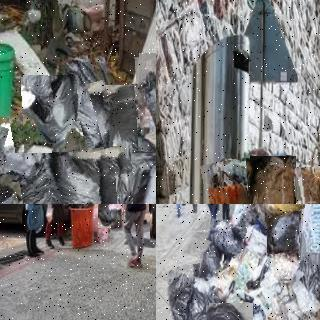Garbage: (56, 49, 122, 183), (93, 84, 155, 204), (0, 111, 74, 204), (22, 75, 80, 153), (48, 149, 117, 204), (165, 264, 212, 320), (248, 155, 298, 204), (136, 51, 156, 165), (204, 159, 253, 204), (266, 211, 300, 254), (205, 221, 246, 256), (132, 151, 156, 204), (199, 241, 224, 280), (295, 166, 320, 204), (207, 302, 254, 320), (97, 204, 122, 228), (260, 204, 303, 216), (149, 204, 156, 242)
